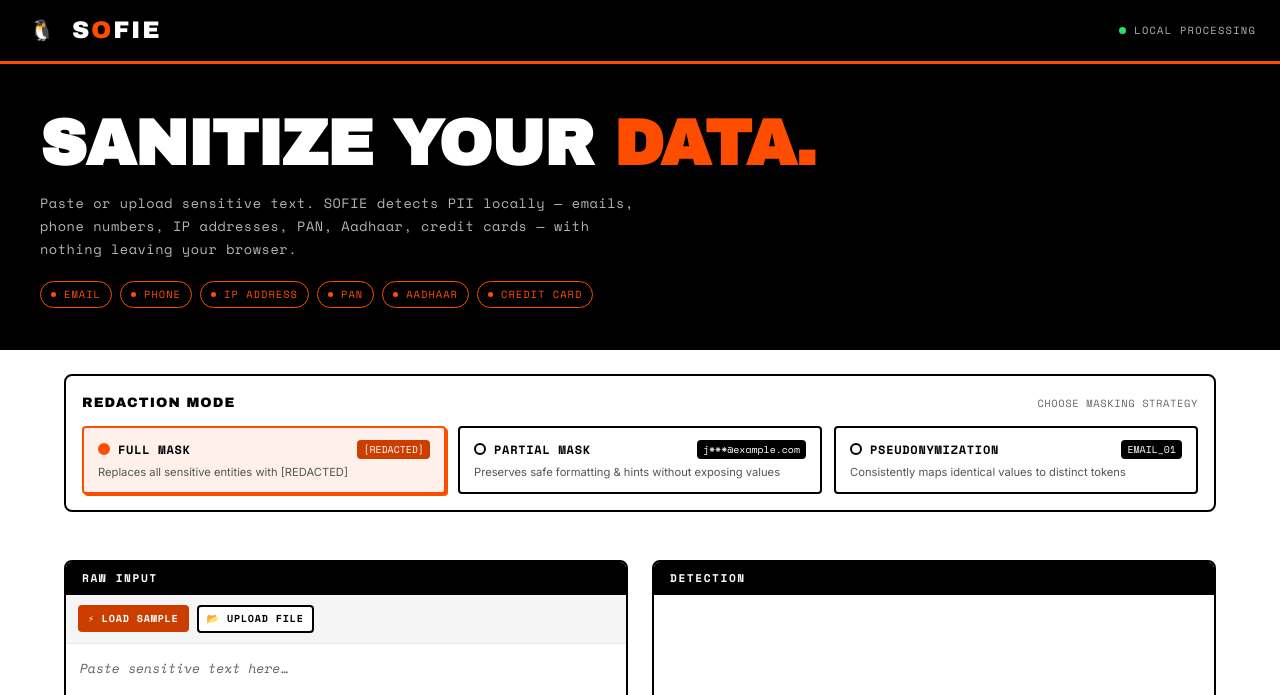
SOFIE Phase 2 UI › 8. Clear button removes input text and detection results
This screenshot has width=1280, height=695.
// Load sample first
Step 1. Click the button "⚡ LOAD SAMPLE" → (133, 619), box [78, 605, 189, 632]
Wait 400 ms
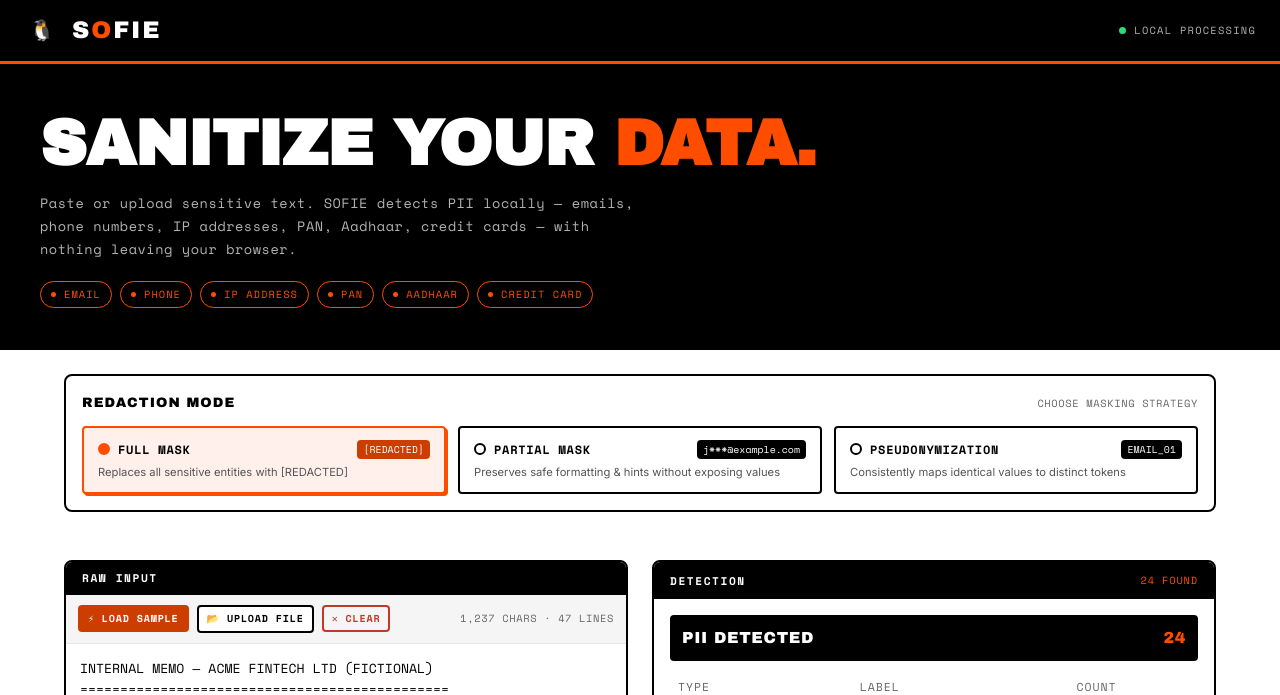
// Now clear
Step 2. Click the button with test id "clear-btn" → (356, 619), box [322, 605, 390, 632]
Wait 400 ms
(page scrolled)
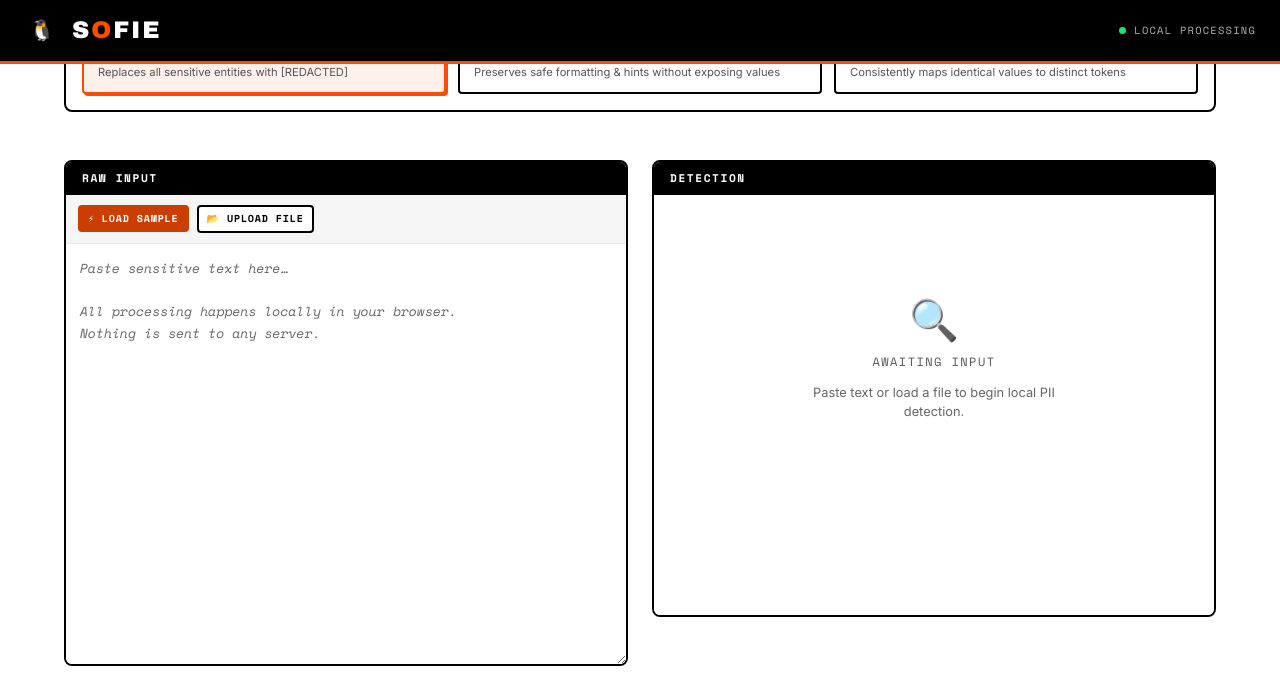
Check: the text box with test id "text-input" is empty, box [66, 244, 626, 664]
Check: the element with test id "empty-no-input" is shown, box [813, 295, 1055, 419]
